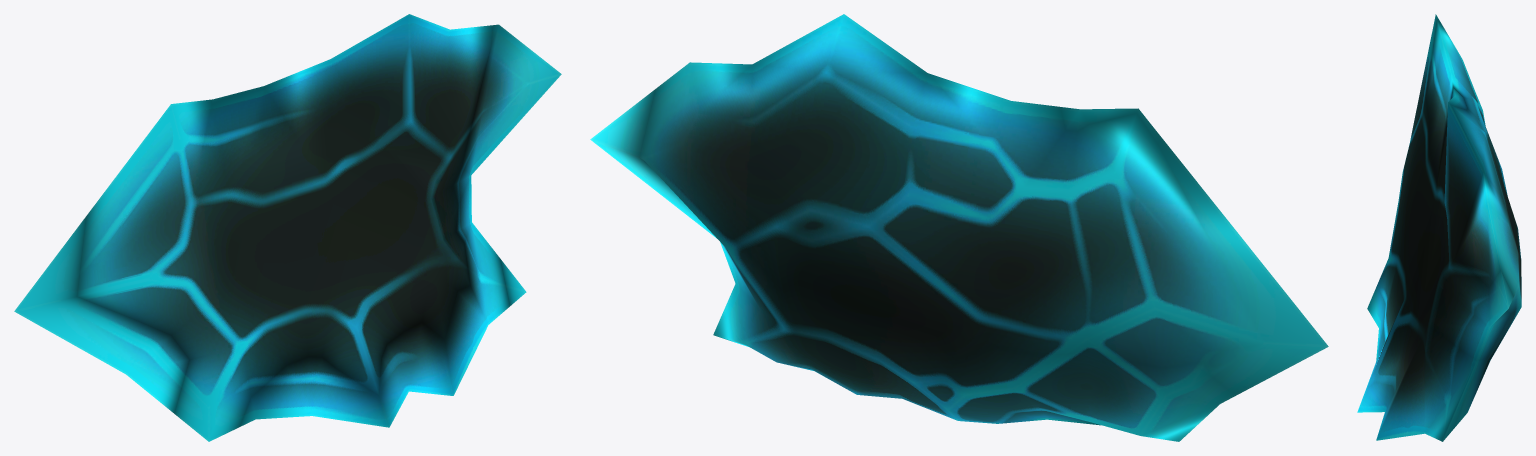
Rendered from item_weashimgm2501-et03.glb.
3 views of the same model, side by side, from view 1: azimuth 30°, elevation 25°; view 2: azimuth 150°, elevation 25°; view 3: azimuth 270°, elevation 25° (orthographic). The views are drawn at different scales.
Visible parts, largest first — view 1: FlyffMesh; view 2: FlyffMesh; view 3: FlyffMesh.
Boxes of the visible parts, bbox=[...] form: FlyffMesh: bbox=[14, 14, 561, 441]; FlyffMesh: bbox=[590, 14, 1328, 441]; FlyffMesh: bbox=[1357, 14, 1521, 441].
Size of the model in its own units: 0.9364 by 0.5498 by 0.24.
1 material, 1 textured.
